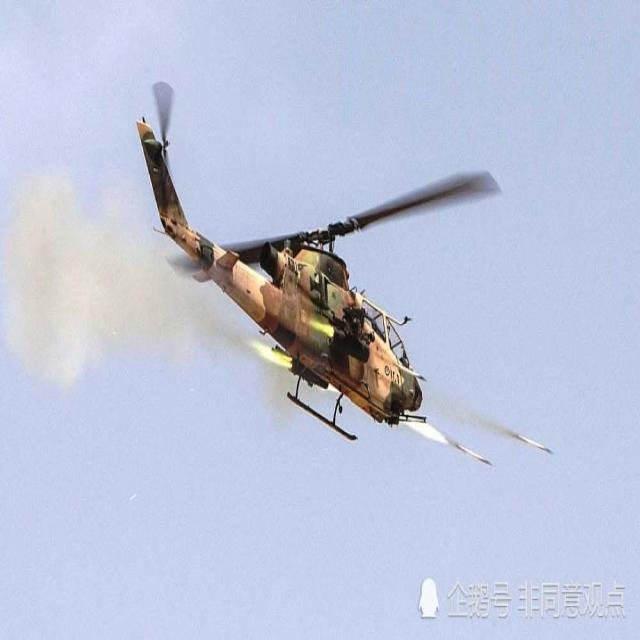MIL_HELO: (128, 69, 501, 453)
